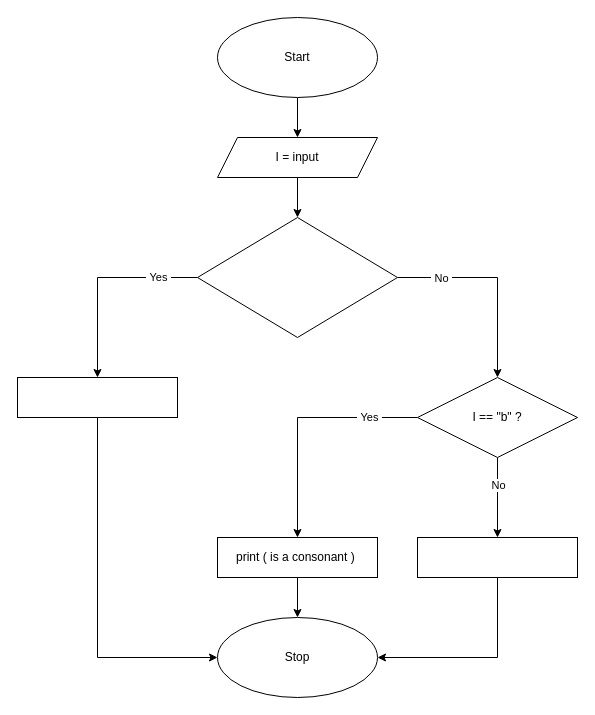
The diagram is 595 pixels wide and 715 high, and some of its shapes have lost their labels. Each missing label, with the box of its shape:
I includes ("a","i","u","e","o") ?: (196, 216, 398, 338)
print ( is a not vowel and consonant ): (416, 536, 578, 578)
print (is a vowel ): (16, 376, 178, 418)
